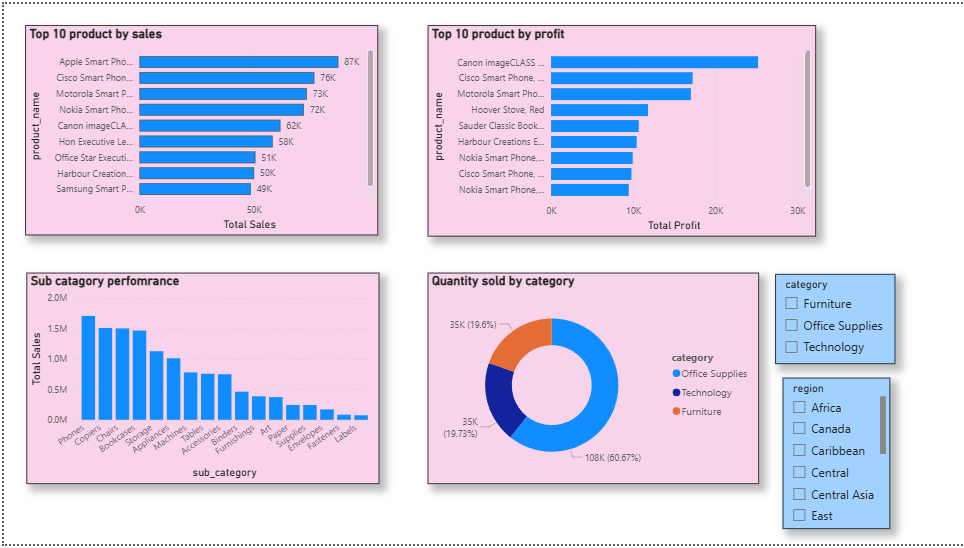

The dashboard page shown, as its layout file describes it:
{"tool":"powerbi","page":{"name":"Product Analysis","canvas":[1280,720],"ordinal":1},"visuals":[{"type":"barChart","title":"Top 10 product  by sales","fields":{"Category":["SuperStoreOrders.product_name"],"Y":["SuperStoreOrders.Total Sales"]},"box":[28.8,28.8,470.7,279.9],"z":0},{"type":"clusteredColumnChart","title":"Sub catagory perfomrance","fields":{"Category":["SuperStoreOrders.sub_category"],"Y":["SuperStoreOrders.Total Sales"]},"box":[29.3,358.3,470.8,281.3],"z":1},{"type":"barChart","title":"Top 10 product by profit","fields":{"Category":["SuperStoreOrders.product_name"],"Y":["SuperStoreOrders.Total Profit"]},"box":[565.4,28.8,517.3,281.3],"z":2},{"type":"donutChart","title":"Quantity sold by category","fields":{"Category":["SuperStoreOrders.category"],"Y":["SuperStoreOrders.Total Quantity"]},"box":[564.9,358.3,441.4,281.3],"z":3},{"type":"slicer","fields":{"Values":["SuperStoreOrders.category"]},"box":[1028.4,359.5,160.2,119.8],"z":4},{"type":"slicer","fields":{"Values":["SuperStoreOrders.region"]},"box":[1038.2,498.9,143.1,201.8],"z":5}]}

Visuals, with their boxes in screenshot pixels (x1, y1, x2, y2), scaled from the page's 1280x720 canvas onto the 964x548 screenshot:
"Top 10 product  by sales" barChart: (22, 22, 376, 235)
"Sub catagory perfomrance" clusteredColumnChart: (22, 273, 377, 487)
"Top 10 product by profit" barChart: (426, 22, 815, 236)
"Quantity sold by category" donutChart: (425, 273, 758, 487)
slicer - SuperStoreOrders.category: (775, 274, 895, 365)
slicer - SuperStoreOrders.region: (782, 380, 890, 533)
